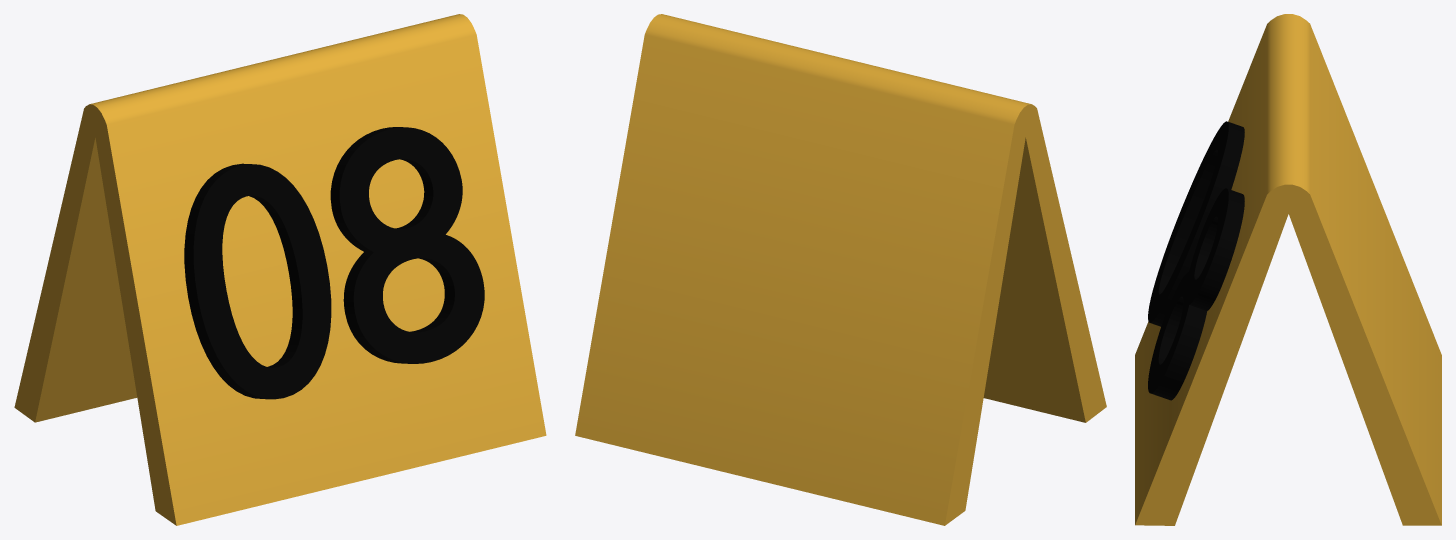
3 views of the same model, side by side, from view 1: azimuth 30°, elevation 25°; view 2: azimuth 150°, elevation 25°; view 3: azimuth 270°, elevation 25° (orthographic). The views are drawn at different scales.
Parts seen in each view (by area): view 1: Bordje, Text.007; view 2: Bordje; view 3: Bordje, Text.007.
Boxes of the visible parts, x1,y1,x2,y2 form: Bordje: (14, 14, 546, 525); Text.007: (184, 127, 484, 399); Bordje: (575, 14, 1106, 525); Bordje: (1135, 14, 1441, 525); Text.007: (1148, 121, 1244, 400).
Bounding box in the file's own units: 342 × 319 × 260.
